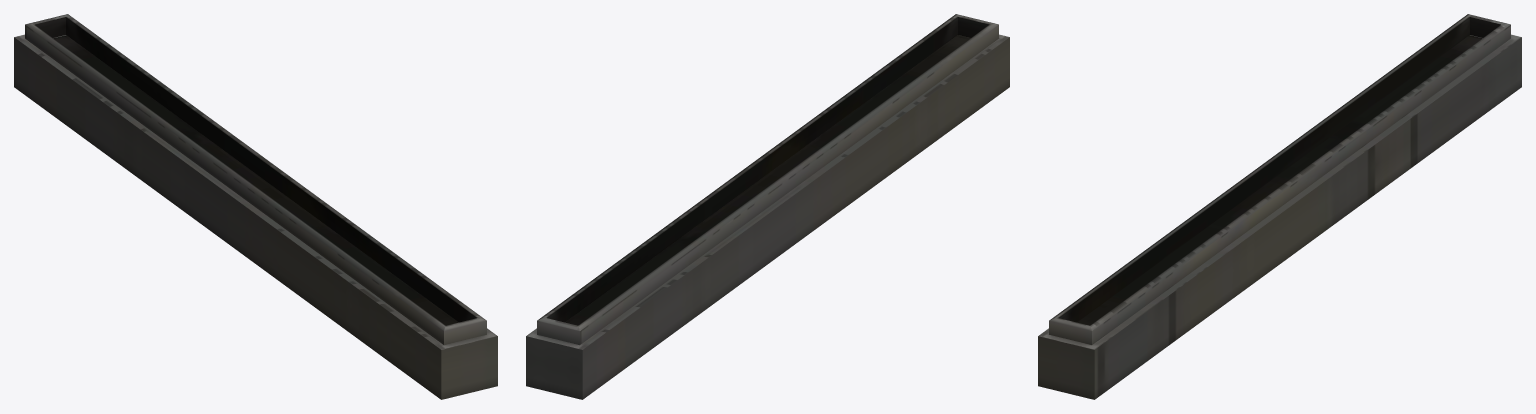
The picture shows the model from 3 angles, left to right: view 1: azimuth 30°, elevation 25°; view 2: azimuth 150°, elevation 25°; view 3: azimuth 330°, elevation 25°; orthographic projection.
Parts seen in each view (by area): view 1: body0_model0_lod0_mesh0; view 2: body0_model0_lod0_mesh0; view 3: body0_model0_lod0_mesh0.
Part boxes in pixels (<box>): body0_model0_lod0_mesh0: <box>14,14,497,399</box>; body0_model0_lod0_mesh0: <box>526,14,1009,399</box>; body0_model0_lod0_mesh0: <box>1038,14,1521,399</box>.
Bounding box in the file's own units: 9.71 × 10.78 × 127.
1 material, 1 textured.
